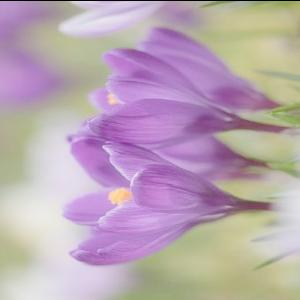Saffron: (62, 136, 243, 266), (86, 45, 251, 149), (136, 25, 276, 117)
